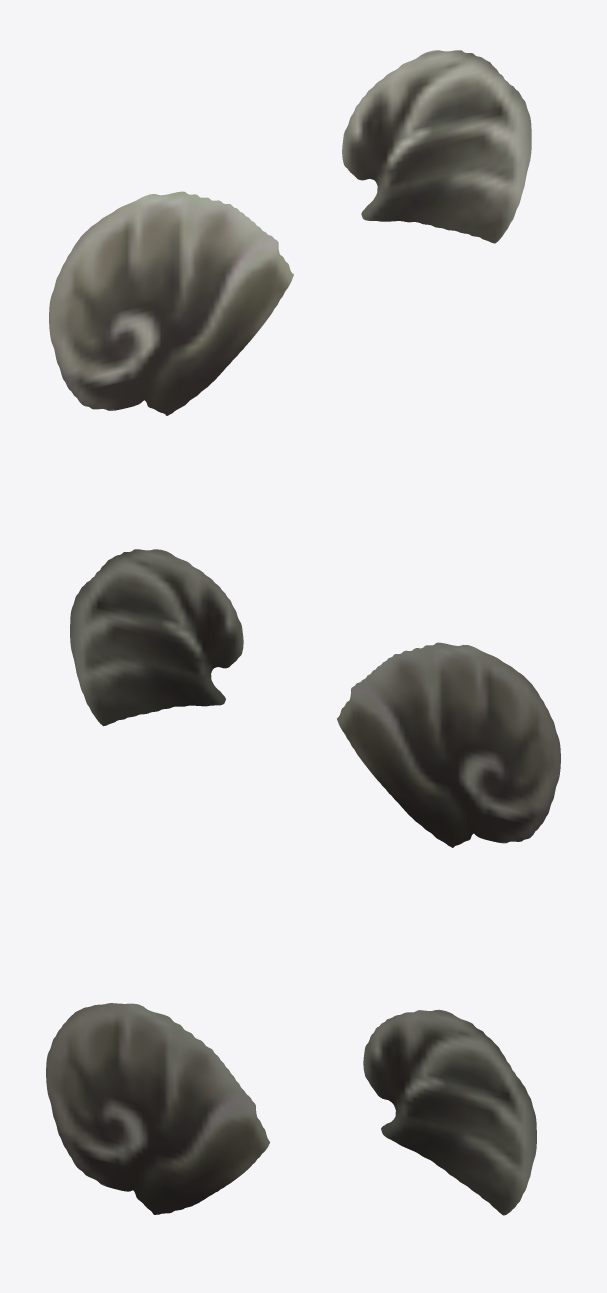
File: Cat Prop Horns Goat.FBX
3 renders of one model, top to bottom at view 1: azimuth 30°, elevation 25°; view 2: azimuth 150°, elevation 25°; view 3: azimuth 330°, elevation 25°, orthographic. The views are drawn at different scales.
Parts seen in each view (by area): view 1: Cat Prop Horns Goat; view 2: Cat Prop Horns Goat; view 3: Cat Prop Horns Goat.
Boxes of the visible parts, box(x1,y1,x2,y2) form: Cat Prop Horns Goat: box(49, 50, 531, 415); Cat Prop Horns Goat: box(70, 549, 560, 847); Cat Prop Horns Goat: box(46, 1003, 536, 1215).
Bounding box in the file's own units: 82.68 × 6.35 × 49.01.
